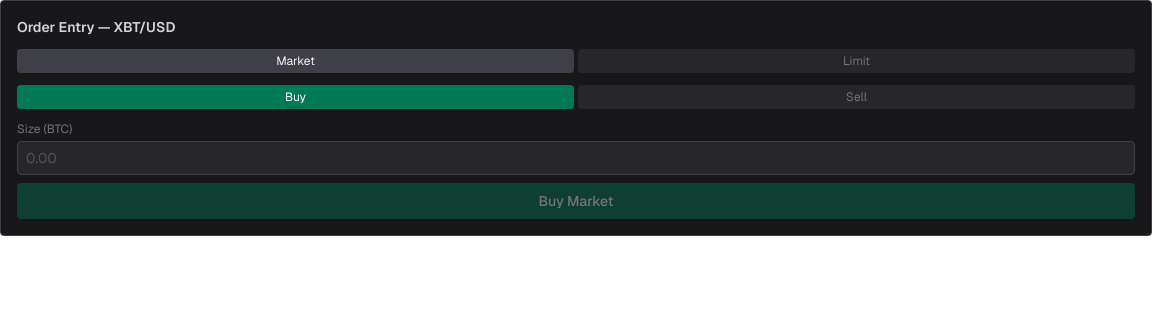
Test: OrderEntry › submit button disabled states › is enabled for limit order when both size and limit price are entered
The image size is (1152, 315).
Click the button "limit" at [856, 61], box top-left (578, 49), bottom-right (1135, 73)
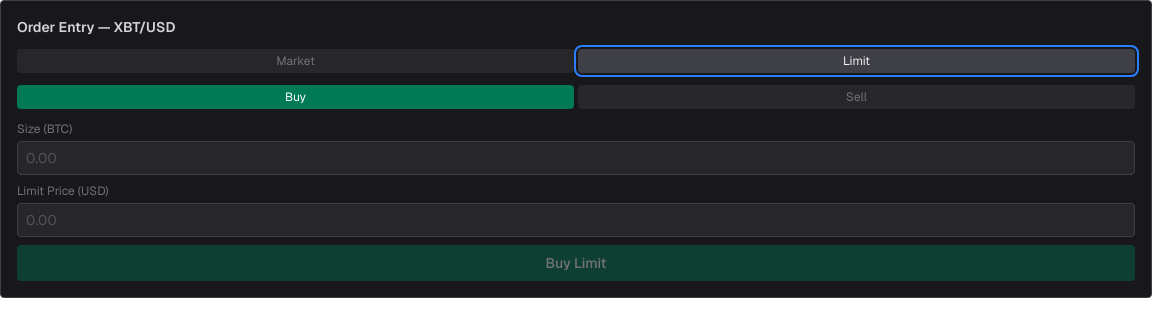
Type "1" into the number field labelled "Size (BTC)" at [576, 158], box top-left (17, 141), bottom-right (1135, 175)
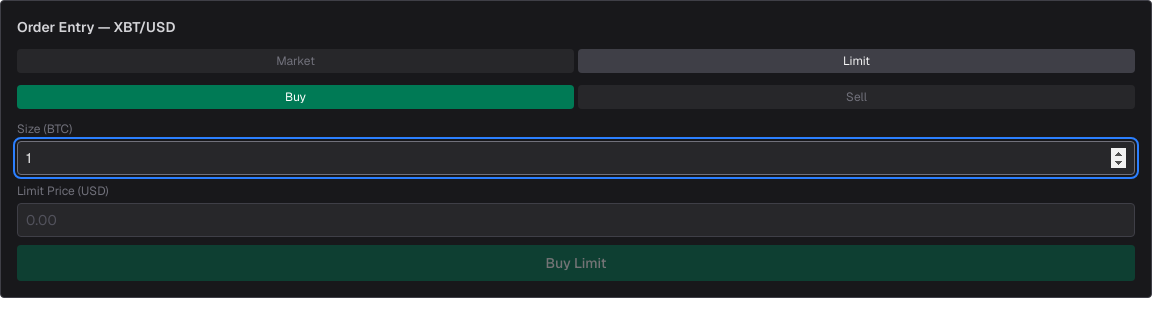
Type "50000" into the number field labelled "Limit Price (USD)" at [576, 220], box top-left (17, 203), bottom-right (1135, 237)
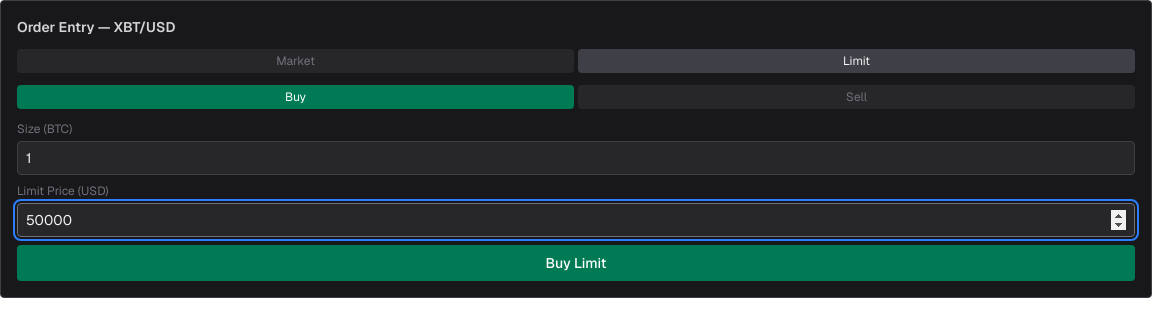
Result: the button "Buy Limit" is enabled at top-left (17, 245), bottom-right (1135, 281)
